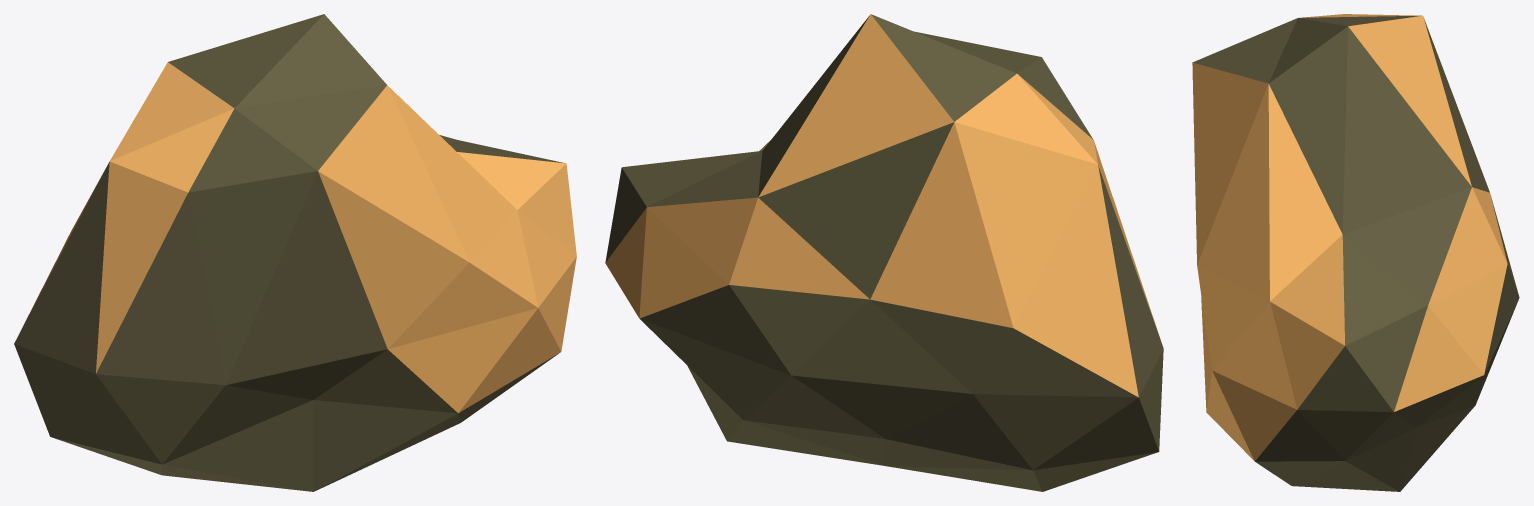
File: IsometricTile_Between_Rock_1.fbx
The picture shows the model from 3 angles, left to right: view 1: azimuth 30°, elevation 25°; view 2: azimuth 150°, elevation 25°; view 3: azimuth 270°, elevation 25°; orthographic projection. The views are drawn at different scales.
Parts seen in each view (by area): view 1: Icosphere; view 2: Icosphere; view 3: Icosphere.
Part boxes in pixels (x1,y1,x2,y2): Icosphere: (14, 14, 576, 491); Icosphere: (605, 14, 1163, 491); Icosphere: (1192, 14, 1519, 491).
Size of the model in its own units: 0.2646 by 0.4825 by 0.3752.
